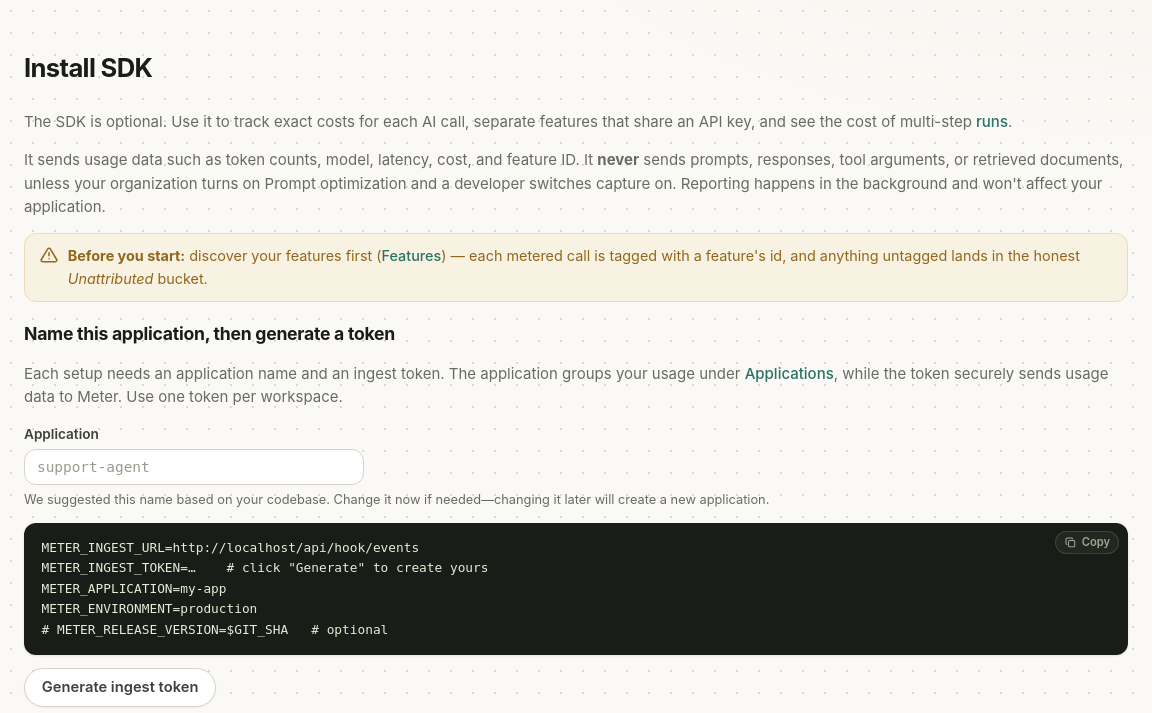
Test: InstallSdkPage — the token › mints one on request and marks it for masking in session replay
What coordinates should you click on to do the following:
click the button "Generate ingest token"
I would click on:
 (120, 687)
Its box is [24,668,216,706].
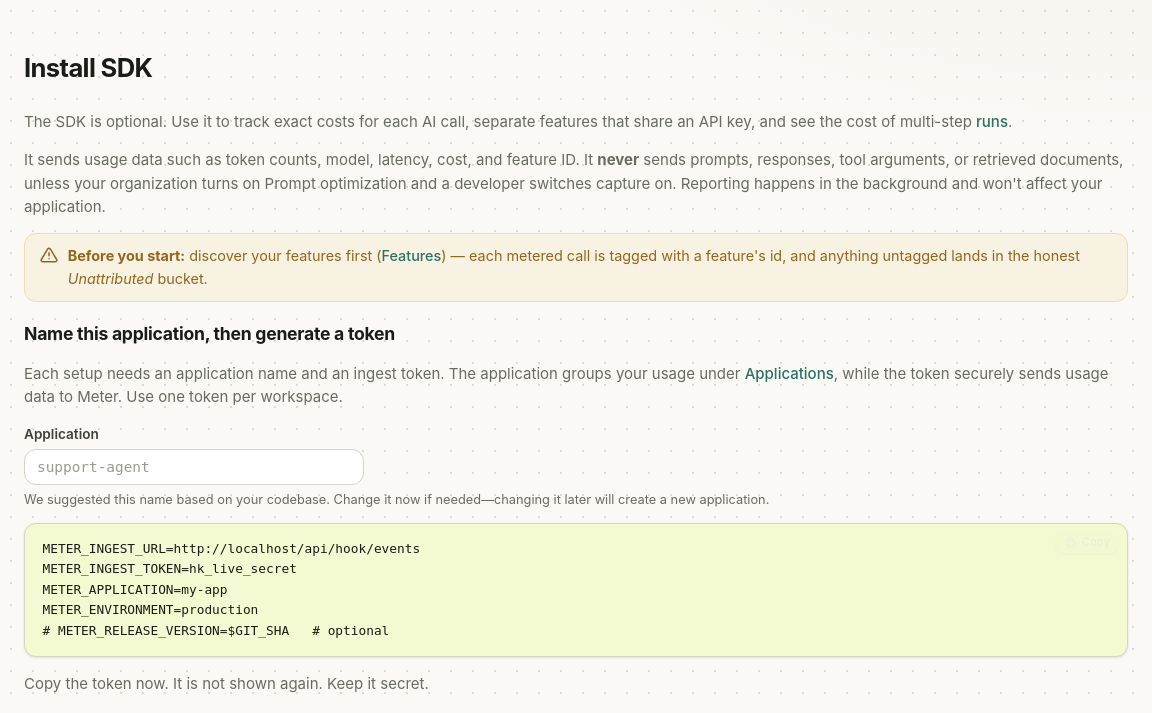
Expected: the text "METER_INGEST_TOKEN=hk_live_secret" is shown, [43,541,420,638]
